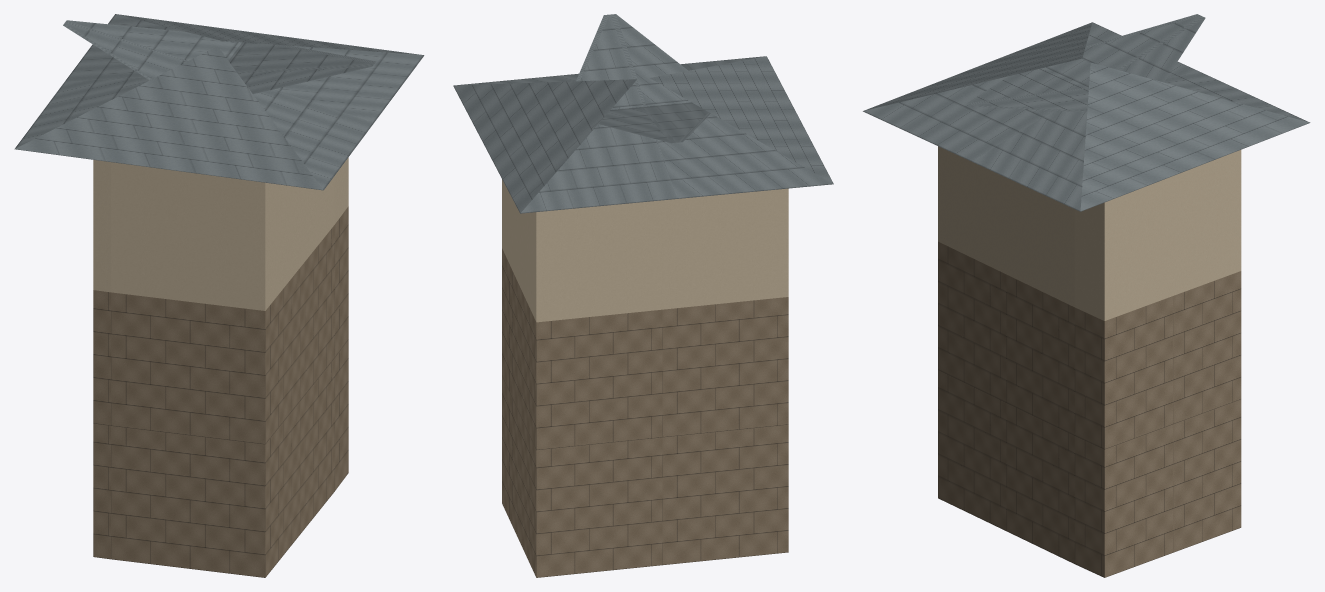
File: bld_c39_48_193.gltf
3 views of the same model, side by side, from view 1: azimuth 30°, elevation 25°; view 2: azimuth 150°, elevation 25°; view 3: azimuth 270°, elevation 25° (orthographic). The views are drawn at different scales.
Parts seen in each view (by area): view 1: bld_c39_48_193; view 2: bld_c39_48_193; view 3: bld_c39_48_193.
Boxes of the visible parts, box(x1,y1,x2,y2) form: bld_c39_48_193: box(14, 14, 424, 577); bld_c39_48_193: box(453, 14, 833, 577); bld_c39_48_193: box(863, 14, 1310, 577).
Size of the model in its own units: 7.19 by 8 by 7.18.
Materials: 3 (3 with a texture image).
